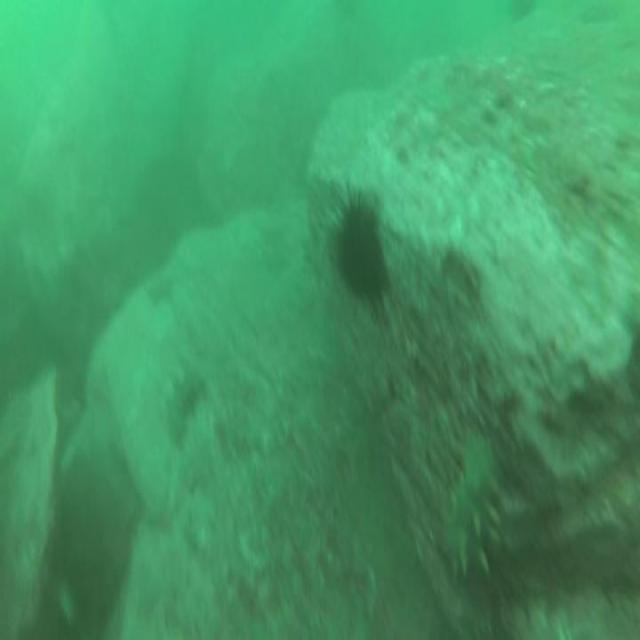echinus: (326, 180, 389, 319)
holothurian: (435, 431, 503, 577), (164, 362, 208, 450)
starfish: (142, 272, 178, 313)
